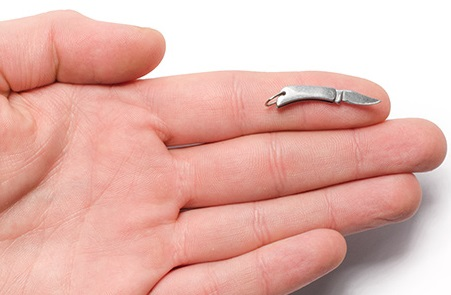knife: (314, 81, 393, 110)
